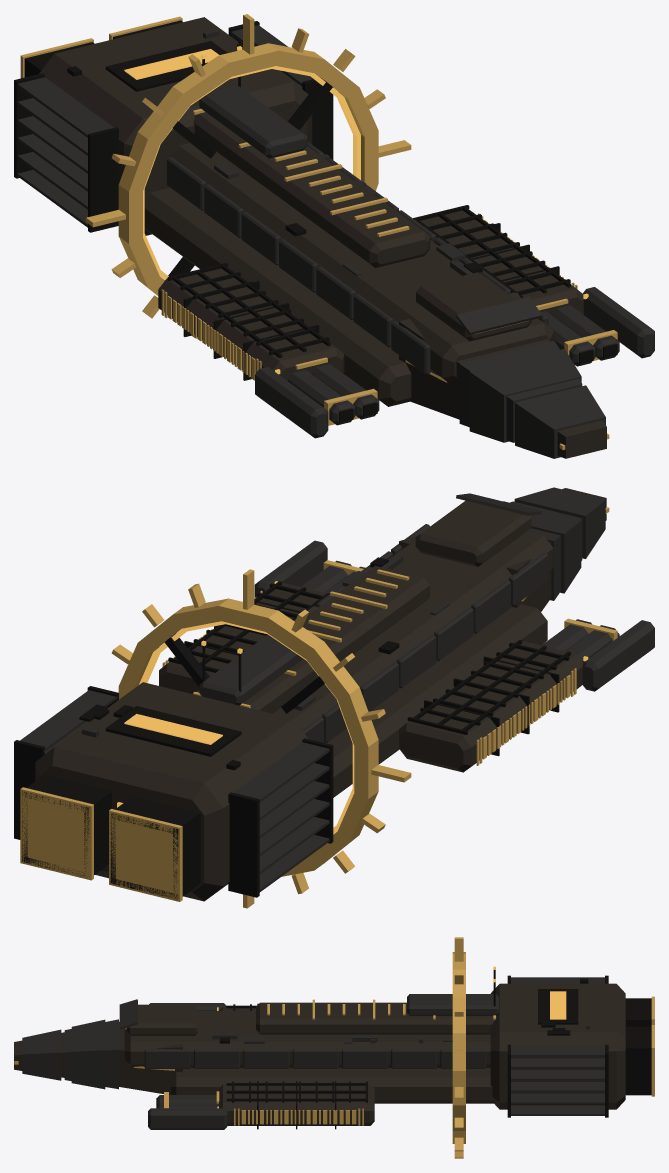
The model's file is goniec-wybudzeni-hawk-90-lod0.glb.
3 views of the same model, one above another, from view 1: azimuth 30°, elevation 25°; view 2: azimuth 150°, elevation 25°; view 3: azimuth 270°, elevation 25° (orthographic). The views are drawn at different scales.
Bounding box in the file's own units: 5.54 × 5.12 × 13.53.
